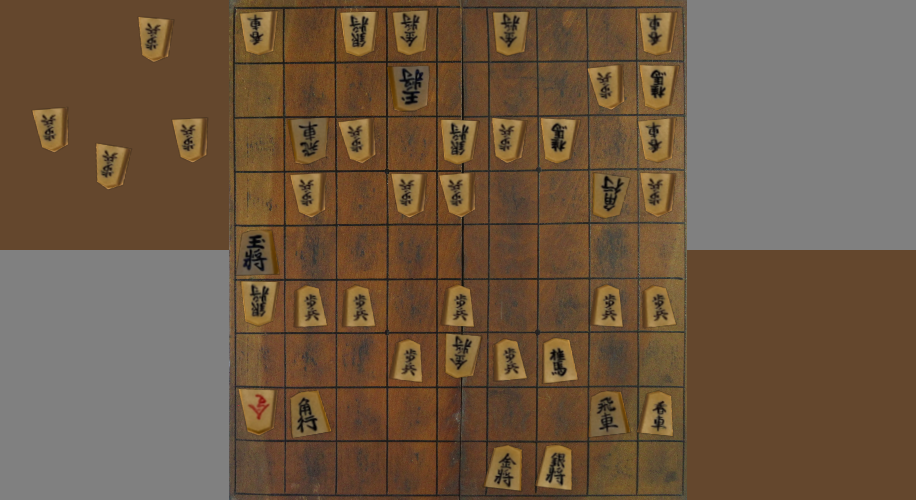A: (291, 391, 330, 437), (238, 231, 276, 275), (591, 392, 629, 436), (485, 446, 522, 491), (537, 446, 571, 489), (544, 339, 576, 383), (641, 392, 672, 435), (593, 285, 623, 327), (392, 340, 422, 382), (344, 286, 375, 326), (645, 286, 675, 327), (296, 286, 326, 327), (496, 340, 525, 380), (444, 286, 472, 326)
B: (288, 118, 329, 164), (339, 118, 375, 163), (391, 67, 428, 110), (593, 173, 629, 217), (442, 119, 477, 164), (639, 12, 675, 55), (240, 390, 275, 434), (641, 66, 675, 109), (542, 119, 576, 162), (242, 282, 276, 325), (393, 12, 427, 55), (391, 174, 425, 217), (446, 335, 480, 377), (341, 13, 375, 55), (241, 12, 274, 54), (441, 175, 474, 217), (589, 66, 621, 109), (640, 119, 671, 162), (291, 175, 323, 216), (642, 174, 673, 215), (495, 13, 526, 54), (494, 119, 524, 161)
D: (172, 119, 207, 162), (96, 144, 129, 189), (33, 108, 67, 151), (139, 18, 172, 61)
